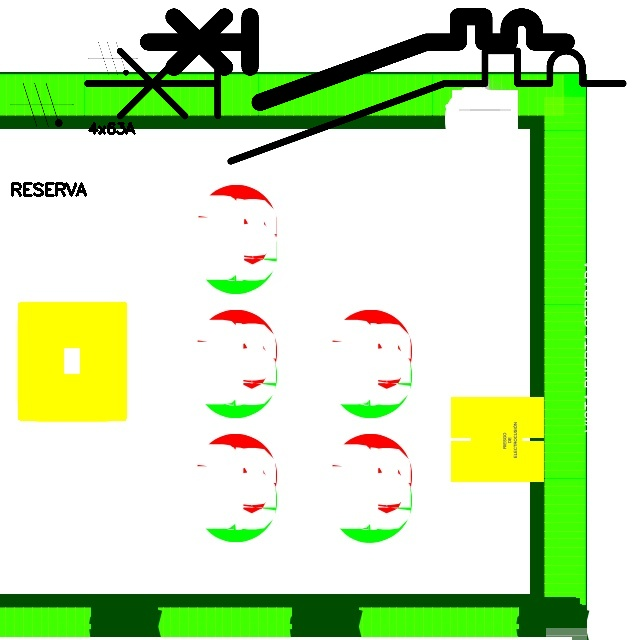interruptor_termomagnetico: (73, 37, 636, 175), (137, 6, 576, 113)
